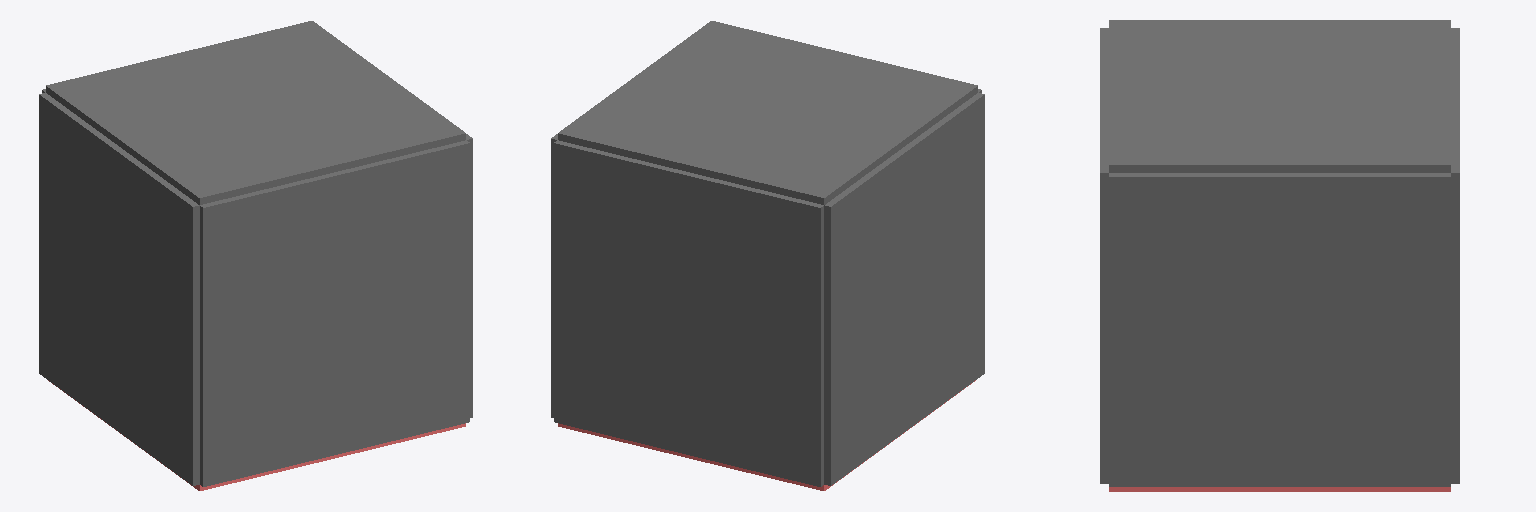
robot.urdf — box:
<?xml version="1.0"?>
<robot name="box">

  <material name="red">
    <color rgba="1 0 0 0.2"/>
  </material>

  <material name="coral">
    <color rgba="1.0 0.5 0.5 0.2"/>
  </material>  

  <material name="blue">
    <color rgba="0 0 1 0.2"/>
  </material>    

  <material name="green">
    <color rgba="0 1 0 0.2"/>
  </material>    

  <material name="grey">
    <color rgba="0.5 0.5 0.5 0.2"/>
  </material>      

  <material name="magenta">
    <color rgba="1.0 0 0.5 0.2"/>
  </material>        

  <link name="box">
    <inertial>
      <mass value="1"/>
      <!-- Inertia values were calculated to be consistent with the mass and
           geometry size, assuming a uniform density. -->
      <inertia ixx="0.0108" ixy="0" ixz="0" iyy="0.0083" iyz="0" izz="0.0042"/>
    </inertial>
    
    <visual name="center">
      <geometry>
        <box size=".0365 .0365 .0365"/>
      </geometry>
    </visual>
    
    <visual name="zplus">
      <geometry>
        <box size=".0365 .0365 .001825"/>
      </geometry>
      <material name="grey"/>
      <origin xyz="0 0 0.01825"/>
    </visual>   

    <visual name="zminus">
      <geometry>
        <box size=".0365 .0365 .001825"/>
      </geometry>
      <material name="coral"/>
      <origin xyz="0 0 -0.01825"/>
    </visual>   

    <visual name="xplus">
      <geometry>
        <box size=".001825 0.0365 0.0365"/>
      </geometry>
      <material name="grey"/>
      <origin xyz="0.01825 0 0"/>
    </visual>            

    <visual name="xminus">
      <geometry>
        <box size=".001825 0.0365 0.0365"/>
      </geometry>
      <material name="grey"/>
      <origin xyz="-0.01825 0 0"/>
    </visual>             

    <visual name="yplus">
      <geometry>
        <box size="0.0365 .001825 0.0365"/>
      </geometry>
      <material name="grey"/>
      <origin xyz="0 0.01825 0"/>
    </visual>            

    <visual name="yminus">
      <geometry>
        <box size="0.0365 .001825 0.0365"/>
      </geometry>
      <material name="grey"/>
      <origin xyz="0 -0.01825 0"/>
    </visual>                        

    <collision name="box">
      <geometry>
        <box size=".0375 .0375 .0375"/>
      </geometry>
    </collision>
  </link>
</robot>

--- Render facts (derived) ---
3 views of the same robot in one strip: view 1: azimuth 30°, elevation 25°; view 2: azimuth 150°, elevation 25°; view 3: azimuth 270°, elevation 25° (orthographic).
Model box with 1 links and 0 joints (none), rooted at box, posed all joints at 0.
Links seen in each view (by area): view 1: box; view 2: box; view 3: box.
Boxes of the visible links, x1,y1,x2,y2 form: box: (39,21,472,490); box: (551,21,984,490); box: (1100,20,1459,491).
Size in the robot's own frame: 0.0383 by 0.0383 by 0.0383 metres.
Geometry: primitives only (box / cylinder / sphere), no mesh files.